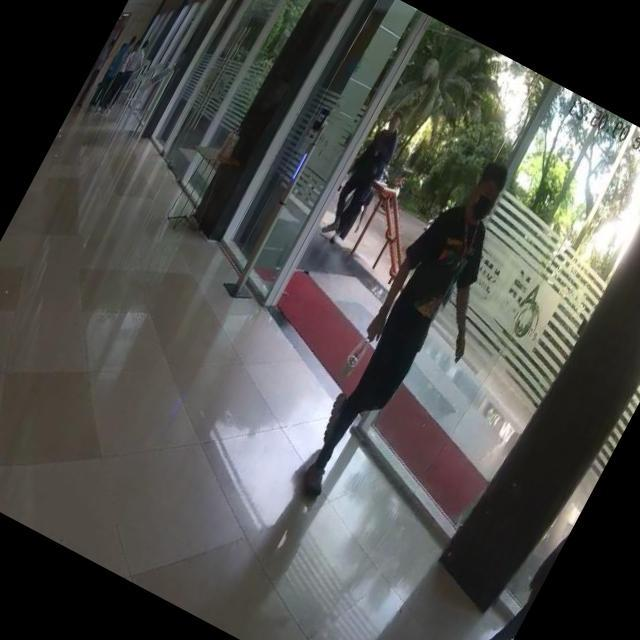person: (280, 142, 529, 522), (318, 100, 416, 247)
